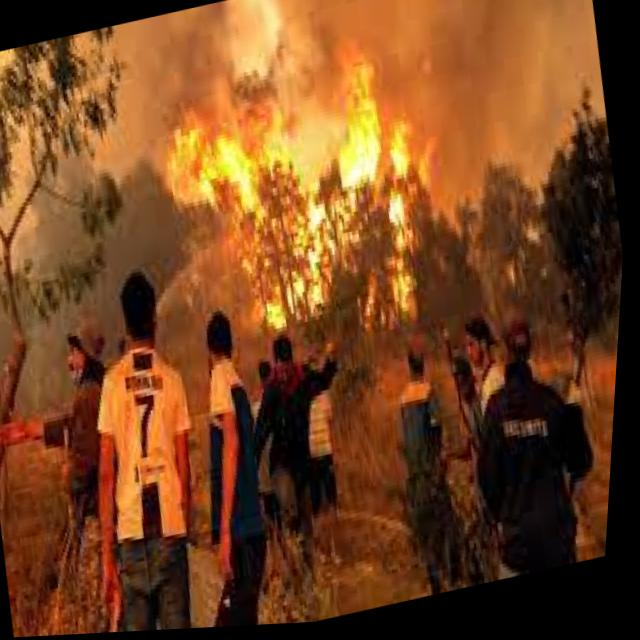Fire: (145, 36, 460, 392)
